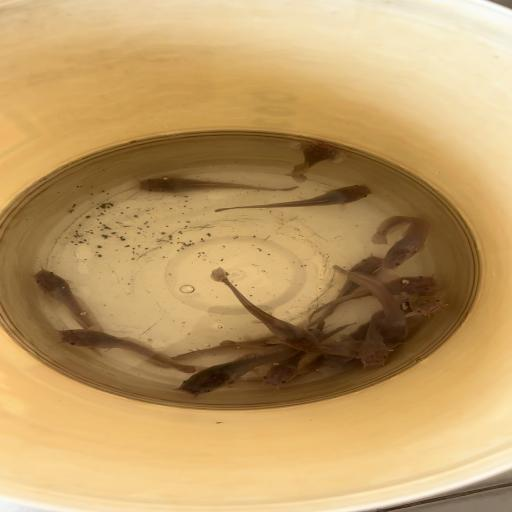lele: (168, 320, 354, 400), (206, 266, 324, 354), (30, 268, 112, 360), (53, 326, 201, 374), (150, 326, 325, 366), (330, 264, 411, 344), (266, 321, 356, 391), (215, 181, 378, 217), (302, 272, 437, 315), (308, 255, 388, 326), (133, 174, 301, 197), (368, 215, 432, 271), (218, 338, 393, 358), (318, 317, 377, 370), (358, 308, 396, 370), (287, 142, 342, 184), (397, 291, 447, 320)
